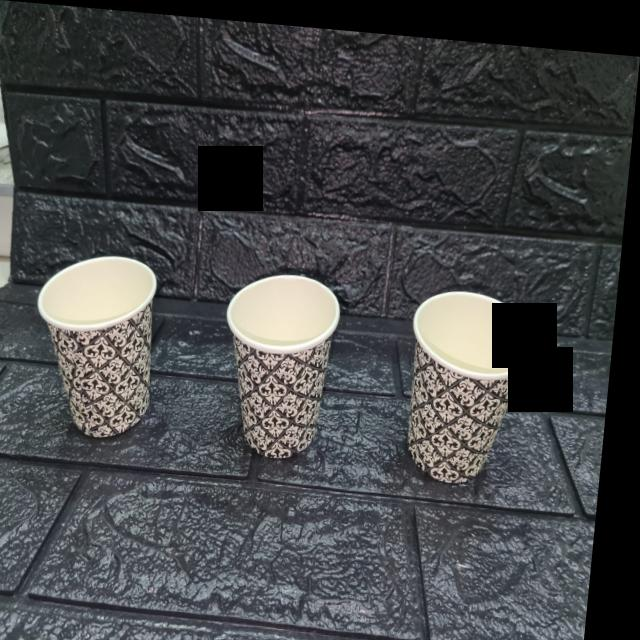cups: (403, 276, 546, 479), (33, 247, 170, 441), (227, 261, 356, 455)
